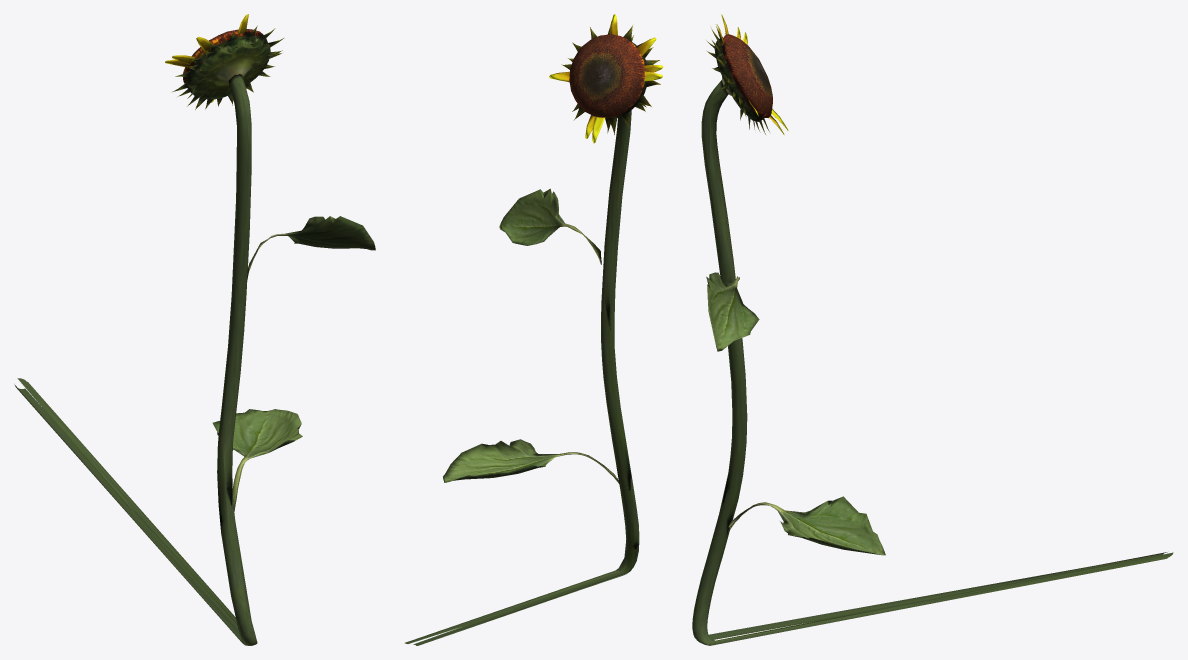
The model's file is Girasole10.fbx.
The picture shows the model from 3 angles, left to right: view 1: azimuth 30°, elevation 25°; view 2: azimuth 150°, elevation 25°; view 3: azimuth 270°, elevation 25°; orthographic projection. The views are drawn at different scales.
Parts seen in each view (by area): view 1: Girasole10; view 2: Girasole10; view 3: Girasole10.
Part boxes in pixels (x1,y1,x2,y2): Girasole10: (14,14,375,645); Girasole10: (405,14,663,645); Girasole10: (692,14,1173,645).
Size of the model in its own units: 16.21 by 49.19 by 34.63.
